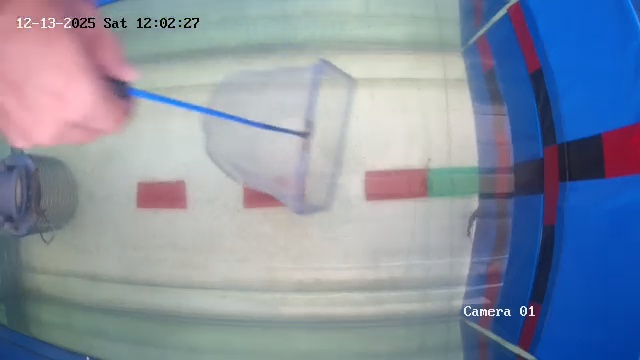fish: (462, 202, 490, 244)
